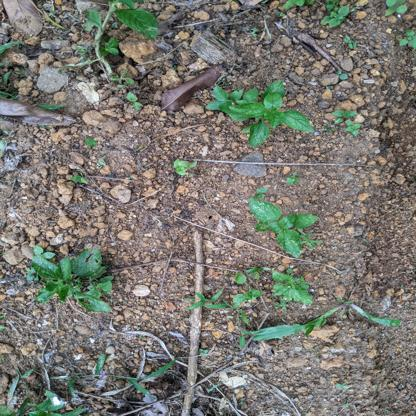weed: (204, 81, 314, 147), (26, 246, 120, 311), (244, 191, 324, 259), (230, 263, 317, 311), (84, 1, 160, 52), (381, 2, 416, 46), (328, 104, 366, 144), (316, 4, 354, 31)
